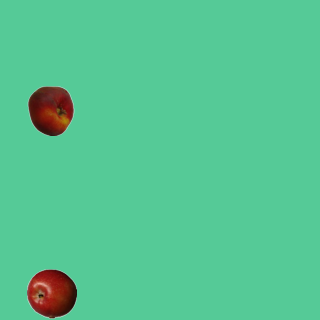Apple Braeburn: (26, 268, 76, 318)
Nectarine Flat: (25, 85, 75, 135)
